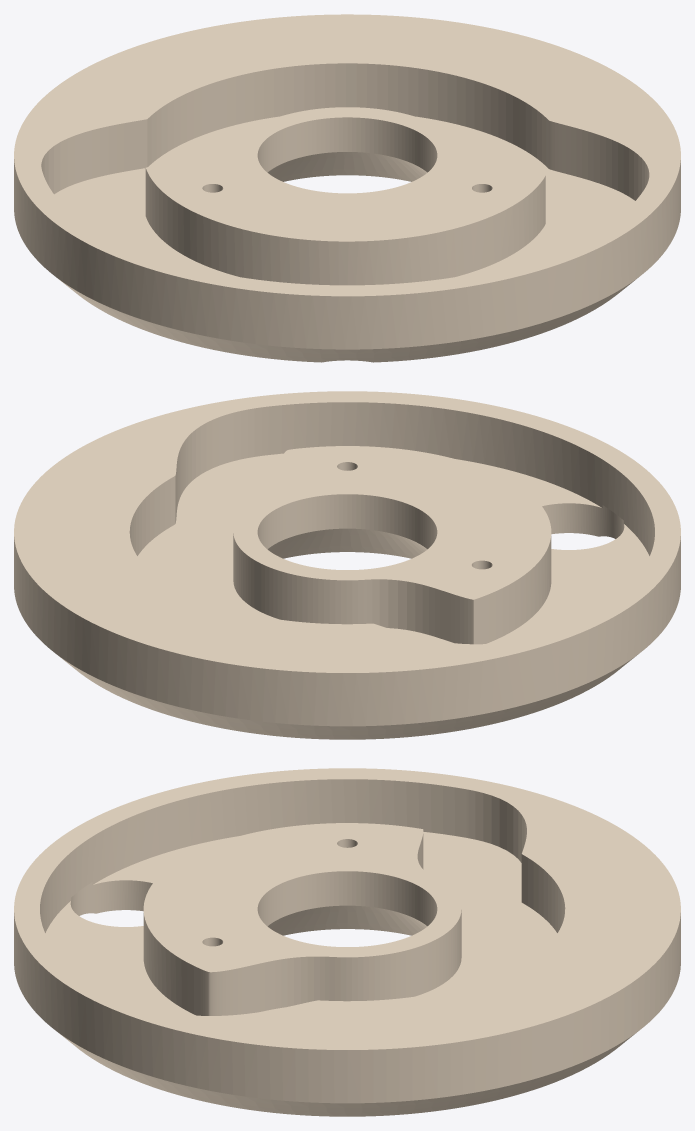
3 views of the same model, one above another, from view 1: azimuth 30°, elevation 25°; view 2: azimuth 150°, elevation 25°; view 3: azimuth 270°, elevation 25° (orthographic).
Visible parts, largest first — view 1: Node1; view 2: Node1; view 3: Node1.
Part boxes in pixels (left/top/right/bottom): Node1: left=14, top=14, right=680, bottom=362; Node1: left=14, top=391, right=680, bottom=739; Node1: left=14, top=768, right=680, bottom=1116.
Size of the model in its own units: 193 by 25 by 193.
